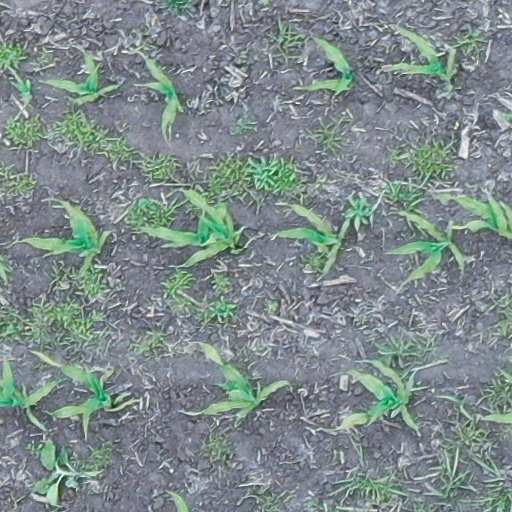planta: (138, 186, 242, 267), (196, 338, 290, 422), (21, 198, 114, 280), (335, 356, 421, 433), (272, 201, 351, 276), (389, 207, 467, 282), (385, 24, 459, 91), (43, 51, 125, 107), (52, 361, 114, 432), (140, 52, 181, 134), (306, 35, 357, 95), (11, 72, 35, 110)
